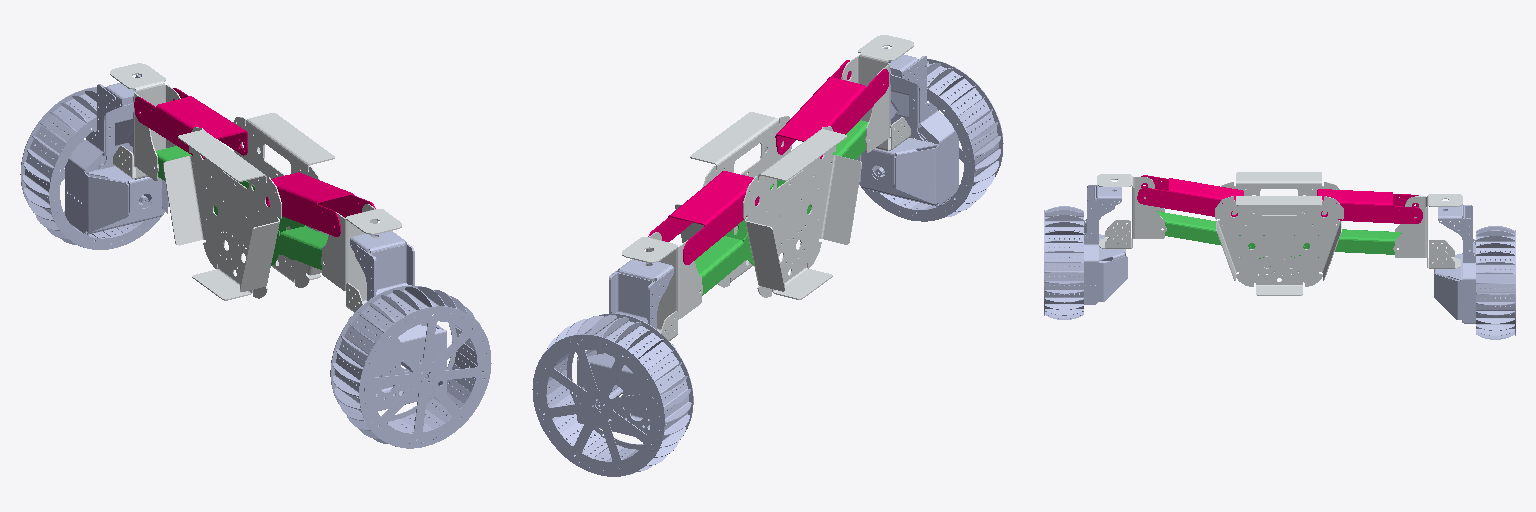
The robot description file, URDF, robot "REV":
<?xml version="1.0" encoding="utf-8"?>
<!-- This URDF was automatically created by SolidWorks to URDF Exporter! Originally created by [author] ([email redacted]) 
     Commit Version: 1.6.0-4-g7f85cfe  Build Version: 1.6.7995.38578
     For more information, please see http://wiki.ros.org/sw_urdf_exporter -->

<robot name="REV">
  <link
    name="base_link">
    <inertial>
      <origin
        xyz="7.14706072102445E-16 -1.13450915328883E-15 0.133292991245626"
        rpy="0 0 0" />
      <mass
        value="1.16420090238786" />
      <inertia
        ixx="0.0164887637751647"
        ixy="-1.90289701316722E-18"
        ixz="-2.67526886060798E-17"
        iyy="0.00758057045639267"
        iyz="-3.44375803085017E-18"
        izz="0.00955960807272672" />
    </inertial>
    <visual>
      <origin
        xyz="0 0 0"
        rpy="0 0 0" />
      <geometry>
        <mesh
          filename="package://rover_description/meshes/base_link.STL" />
      </geometry>
      <material
        name="">
        <color
          rgba="0.898039215686275 0.917647058823529 0.929411764705882 1" />
      </material>
    </visual>
    <collision>
      <origin
        xyz="0 0 0"
        rpy="0 0 0" />
      <geometry>
        <mesh
          filename="package://rover_description/meshes/base_link.STL" />
      </geometry>
    </collision>
  </link>
  <link
    name="right_upper_arm_link">
    <inertial>
      <origin
        xyz="8.67361737988404E-16 0.100934490455834 0.0100942927174472"
        rpy="0 0 0" />
      <mass
        value="0.089245113557281" />
      <inertia
        ixx="0.00046676622139141"
        ixy="3.12800290565977E-19"
        ixz="3.92122715502237E-19"
        iyy="0.000121199593509576"
        iyz="4.51709155144065E-05"
        izz="0.000529188237291866" />
    </inertial>
    <visual>
      <origin
        xyz="0 0 0"
        rpy="0 0 0" />
      <geometry>
        <mesh
          filename="package://rover_description/meshes/right_upper_arm_link.STL" />
      </geometry>
      <material
        name="">
        <color
          rgba="1 0 0.501960784313725 1" />
      </material>
    </visual>
    <collision>
      <origin
        xyz="0 0 0"
        rpy="0 0 0" />
      <geometry>
        <mesh
          filename="package://rover_description/meshes/right_upper_arm_link.STL" />
      </geometry>
    </collision>
  </link>
  <joint
    name="right_upper_suspension_joint"
    type="continuous">
    <origin
      xyz="0 0.113029999999999 0.200078600000003"
      rpy="0 0 0" />
    <parent
      link="base_link" />
    <child
      link="right_upper_arm_link" />
    <axis
      xyz="1 0 0" />
  </joint>
  <link
    name="right_elbow_link">
    <inertial>
      <origin
        xyz="2.84494650060196E-16 0.0305089500241993 -0.0605771133875825"
        rpy="0 0 0" />
      <mass
        value="0.276177502867985" />
      <inertia
        ixx="0.00138370097439145"
        ixy="4.10713697130028E-18"
        ixz="1.39962720089084E-18"
        iyy="0.00118184162619849"
        iyz="1.67240900157391E-05"
        izz="0.000604637115743068" />
    </inertial>
    <visual>
      <origin
        xyz="0 0 0"
        rpy="0 0 0" />
      <geometry>
        <mesh
          filename="package://rover_description/meshes/right_elbow_link.STL" />
      </geometry>
      <material
        name="">
        <color
          rgba="0.898039215686275 0.917647058823529 0.929411764705882 1" />
      </material>
    </visual>
    <collision>
      <origin
        xyz="0 0 0"
        rpy="0 0 0" />
      <geometry>
        <mesh
          filename="package://rover_description/meshes/right_elbow_link.STL" />
      </geometry>
    </collision>
  </link>
  <joint
    name="right_elbow_joint"
    type="continuous">
    <origin
      xyz="0 0.228276451582478 -0.0121581928309283"
      rpy="0 0 0" />
    <parent
      link="right_upper_arm_link" />
    <child
      link="right_elbow_link" />
    <axis
      xyz="1 0 0" />
    <mimic
      joint="right_upper_suspension_joint"
      multiplier="-1"
      offset="0" />
  </joint>
  <link
    name="right_steer_link">
    <inertial>
      <origin
        xyz="4.00224786206993E-05 0.0556417903494036 -0.0380442173780658"
        rpy="0 0 0" />
      <mass
        value="0.491364303359803" />
      <inertia
        ixx="0.00176190750011995"
        ixy="-2.3086902910516E-08"
        ixz="5.99035056930559E-07"
        iyy="0.0021935871105742"
        iyz="0.000325354991125423"
        izz="0.00127549915007256" />
    </inertial>
    <visual>
      <origin
        xyz="0 0 0"
        rpy="0 0 0" />
      <geometry>
        <mesh
          filename="package://rover_description/meshes/right_steer_link.STL" />
      </geometry>
      <material
        name="">
        <color
          rgba="0.792156862745098 0.819607843137255 0.933333333333333 1" />
      </material>
    </visual>
    <collision>
      <origin
        xyz="0 0 0"
        rpy="0 0 0" />
      <geometry>
        <mesh
          filename="package://rover_description/meshes/right_steer_link.STL" />
      </geometry>
    </collision>
  </link>
  <joint
    name="right_steer_joint"
    type="continuous">
    <origin
      xyz="0 0.0763523999115025 -0.142620994996874"
      rpy="0 0 0" />
    <parent
      link="right_elbow_link" />
    <child
      link="right_steer_link" />
    <axis
      xyz="0 0 -1" />
  </joint>
  <link
    name="right_drive_link">
    <inertial>
      <origin
        xyz="-4.64947787340297E-07 -0.0485815654607988 -4.94993169632418E-05"
        rpy="0 0 0" />
      <mass
        value="0.387386297168039" />
      <inertia
        ixx="0.000796364048811902"
        ixy="-1.99673396528676E-18"
        ixz="-3.87517573368842E-20"
        iyy="0.000989327464865147"
        iyz="-1.94405743453837E-19"
        izz="0.000796364048811916" />
    </inertial>
    <visual>
      <origin
        xyz="0 0 0"
        rpy="0 0 0" />
      <geometry>
        <mesh
          filename="package://rover_description/meshes/right_drive_link.STL" />
      </geometry>
      <material
        name="">
        <color
          rgba="0.792156862745098 0.819607843137255 0.933333333333333 1" />
      </material>
    </visual>
    <collision>
      <origin
        xyz="0 0 0"
        rpy="0 0 0" />
      <geometry>
        <mesh
          filename="package://rover_description/meshes/right_drive_link.STL" />
      </geometry>
    </collision>
  </link>
  <joint
    name="right_drive_joint"
    type="continuous">
    <origin
      xyz="0 0.1732788005332 -0.0550671980221146"
      rpy="0 0 0" />
    <parent
      link="right_steer_link" />
    <child
      link="right_drive_link" />
    <axis
      xyz="0 -1 0" />
  </joint>
  <link
    name="right_lower_arm_link">
    <inertial>
      <origin
        xyz="5.82867087928207E-16 0.0916466964707608 -0.00210508223009852"
        rpy="0 0 0" />
      <mass
        value="0.0901506877798632" />
      <inertia
        ixx="0.000709947389465217"
        ixy="-1.8090258729004E-19"
        ixz="1.29265966493677E-19"
        iyy="8.29725439825146E-05"
        iyz="-1.14668119266734E-05"
        izz="0.000732993154194516" />
    </inertial>
    <visual>
      <origin
        xyz="0 0 0"
        rpy="0 0 0" />
      <geometry>
        <mesh
          filename="package://rover_description/meshes/right_lower_arm_link.STL" />
      </geometry>
      <material
        name="">
        <color
          rgba="0.341176470588235 0.83921568627451 0.411764705882353 1" />
      </material>
    </visual>
    <collision>
      <origin
        xyz="0 0 0"
        rpy="0 0 0" />
      <geometry>
        <mesh
          filename="package://rover_description/meshes/right_lower_arm_link.STL" />
      </geometry>
    </collision>
  </link>
  <joint
    name="right_lower_suspension_joint"
    type="continuous">
    <origin
      xyz="0 0.0685799999999988 0.111178600000003"
      rpy="0 0 0" />
    <parent
      link="base_link" />
    <child
      link="right_lower_arm_link" />
    <axis
      xyz="-1 0 0" />
    <mimic
      joint="right_upper_suspension_joint"
      multiplier="-1"
      offset="0" />
  </joint>
  <link
    name="left_upper_arm_link">
    <inertial>
      <origin
        xyz="1.19348975147204E-15 -0.09566388473219 0.0337355490097695"
        rpy="0 0 0" />
      <mass
        value="0.089245113557281" />
      <inertia
        ixx="0.000466766221391411"
        ixy="7.2798747442127E-19"
        ixz="5.82302453068405E-19"
        iyy="0.000123323201524777"
        iyz="5.38730902348708E-05"
        izz="0.000527064629276666" />
    </inertial>
    <visual>
      <origin
        xyz="0 0 0"
        rpy="0 0 0" />
      <geometry>
        <mesh
          filename="package://rover_description/meshes/left_upper_arm_link.STL" />
      </geometry>
      <material
        name="">
        <color
          rgba="1 0 0.501960784313725 1" />
      </material>
    </visual>
    <collision>
      <origin
        xyz="0 0 0"
        rpy="0 0 0" />
      <geometry>
        <mesh
          filename="package://rover_description/meshes/left_upper_arm_link.STL" />
      </geometry>
    </collision>
  </link>
  <joint
    name="left_upper_suspension_joint"
    type="continuous">
    <origin
      xyz="0 -0.113030000000001 0.200078600000003"
      rpy="0 0 0" />
    <parent
      link="base_link" />
    <child
      link="left_upper_arm_link" />
    <axis
      xyz="1 0 0" />
  </joint>
  <link
    name="left_elbow_link">
    <inertial>
      <origin
        xyz="1.38777878078145E-16 -0.0305089494916406 -0.0605771233835763"
        rpy="0 0 0" />
      <mass
        value="0.276177502867984" />
      <inertia
        ixx="0.00138370097439145"
        ixy="1.62464807955631E-18"
        ixz="-6.28782801486317E-18"
        iyy="0.00118184162619849"
        iyz="-1.67240900157383E-05"
        izz="0.000604637115743068" />
    </inertial>
    <visual>
      <origin
        xyz="0 0 0"
        rpy="0 0 0" />
      <geometry>
        <mesh
          filename="package://rover_description/meshes/left_elbow_link.STL" />
      </geometry>
      <material
        name="">
        <color
          rgba="0.898039215686275 0.917647058823529 0.929411764705882 1" />
      </material>
    </visual>
    <collision>
      <origin
        xyz="0 0 0"
        rpy="0 0 0" />
      <geometry>
        <mesh
          filename="package://rover_description/meshes/left_elbow_link.STL" />
      </geometry>
    </collision>
  </link>
  <joint
    name="left_elbow_joint"
    type="continuous">
    <origin
      xyz="0 -0.224651005898425 0.0423070389985593"
      rpy="0 0 0" />
    <parent
      link="left_upper_arm_link" />
    <child
      link="left_elbow_link" />
    <axis
      xyz="1 0 0" />
    <mimic
      joint="left_upper_suspension_joint"
      multiplier="-1"
      offset="0" />
  </joint>
  <link
    name="left_steer_link">
    <inertial>
      <origin
        xyz="-3.78479948679109E-05 -0.050860797138137 -0.0340889001493224"
        rpy="0 0 0" />
      <mass
        value="0.405984022646422" />
      <inertia
        ixx="0.00172438585657842"
        ixy="-2.30866912290617E-08"
        ixz="-6.62312988707159E-07"
        iyy="0.00196766144893258"
        iyz="-0.000325354993938091"
        izz="0.00102637403801297" />
    </inertial>
    <visual>
      <origin
        xyz="0 0 0"
        rpy="0 0 0" />
      <geometry>
        <mesh
          filename="package://rover_description/meshes/left_steer_link.STL" />
      </geometry>
      <material
        name="">
        <color
          rgba="0.792156862745098 0.819607843137255 0.933333333333333 1" />
      </material>
    </visual>
    <collision>
      <origin
        xyz="0 0 0"
        rpy="0 0 0" />
      <geometry>
        <mesh
          filename="package://rover_description/meshes/left_steer_link.STL" />
      </geometry>
    </collision>
  </link>
  <joint
    name="left_steer_joint"
    type="continuous">
    <origin
      xyz="0 -0.0763524002710016 -0.142620999999998"
      rpy="0 0 0" />
    <parent
      link="left_elbow_link" />
    <child
      link="left_steer_link" />
    <axis
      xyz="0 0 -1" />
  </joint>
  <link
    name="left_drive_link">
    <inertial>
      <origin
        xyz="2.17669443393353E-07 0.0485815658150146 -4.9843936285314E-05"
        rpy="0 0 0" />
      <mass
        value="0.387386297168039" />
      <inertia
        ixx="0.000796364048811911"
        ixy="6.39761624733332E-18"
        ixz="-4.03881105815611E-18"
        iyy="0.000989327464865172"
        iyz="3.10095615483234E-18"
        izz="0.000796364048811931" />
    </inertial>
    <visual>
      <origin
        xyz="0 0 0"
        rpy="0 0 0" />
      <geometry>
        <mesh
          filename="package://rover_description/meshes/left_drive_link.STL" />
      </geometry>
      <material
        name="">
        <color
          rgba="0.792156862745098 0.819607843137255 0.933333333333333 1" />
      </material>
    </visual>
    <collision>
      <origin
        xyz="0 0 0"
        rpy="0 0 0" />
      <geometry>
        <mesh
          filename="package://rover_description/meshes/left_drive_link.STL" />
      </geometry>
    </collision>
  </link>
  <joint
    name="left_drive_joint"
    type="continuous">
    <origin
      xyz="0 -0.173278799729241 -0.055067200000181"
      rpy="0 0 0" />
    <parent
      link="left_steer_link" />
    <child
      link="left_drive_link" />
    <axis
      xyz="0 1 0" />
  </joint>
  <link
    name="left_lower_arm_link">
    <inertial>
      <origin
        xyz="6.24500451351651E-16 -0.0895330380591021 0.019682058863483"
        rpy="0 0 0" />
      <mass
        value="0.0901506877798632" />
      <inertia
        ixx="0.000709947389465217"
        ixy="1.14740856478234E-18"
        ixz="-8.52223760834534E-20"
        iyy="0.000124788606463752"
        iyz="0.00015988810820397"
        izz="0.00069117709171328" />
    </inertial>
    <visual>
      <origin
        xyz="0 0 0"
        rpy="0 0 0" />
      <geometry>
        <mesh
          filename="package://rover_description/meshes/left_lower_arm_link.STL" />
      </geometry>
      <material
        name="">
        <color
          rgba="0.341176470588235 0.83921568627451 0.411764705882353 1" />
      </material>
    </visual>
    <collision>
      <origin
        xyz="0 0 0"
        rpy="0 0 0" />
      <geometry>
        <mesh
          filename="package://rover_description/meshes/left_lower_arm_link.STL" />
      </geometry>
    </collision>
  </link>
  <joint
    name="left_lower_suspension_joint"
    type="continuous">
    <origin
      xyz="0 -0.06858 0.11118"
      rpy="0 0 0" />
    <parent
      link="base_link" />
    <child
      link="left_lower_arm_link" />
    <axis
      xyz="1 0 0" />
    <mimic
      joint="left_upper_suspension_joint"
      multiplier="1"
      offset="0" />
  </joint>
</robot>

--- Facts derived from the render (not from the file) ---
3 views of the same robot in one strip: view 1: azimuth 30°, elevation 25°; view 2: azimuth 150°, elevation 25°; view 3: azimuth 270°, elevation 25° (orthographic).
Robot: REV — 11 links, 10 joints (10 continuous); root link base_link; default pose: all joints at 0.
Visible links, largest first — view 1: base_link, left_drive_link, right_steer_link, right_drive_link, left_steer_link, left_upper_arm_link, right_elbow_link, right_upper_arm_link, left_elbow_link, left_lower_arm_link, right_lower_arm_link; view 2: right_drive_link, base_link, left_steer_link, left_drive_link, right_steer_link, right_upper_arm_link, left_upper_arm_link, left_elbow_link, right_elbow_link, right_lower_arm_link, left_lower_arm_link; view 3: base_link, left_drive_link, right_drive_link, left_steer_link, right_steer_link, right_elbow_link, left_elbow_link, left_upper_arm_link, right_upper_arm_link, right_lower_arm_link, left_lower_arm_link.
Link boxes in pixels (x1,y1,x2,y2): base_link: (163, 113, 344, 300); left_drive_link: (330, 285, 491, 448); right_steer_link: (65, 75, 167, 234); right_drive_link: (20, 87, 168, 249); left_steer_link: (348, 231, 446, 410); left_upper_arm_link: (266, 172, 375, 236); right_elbow_link: (110, 63, 180, 180); right_upper_arm_link: (134, 88, 247, 158); left_elbow_link: (321, 204, 401, 312); left_lower_arm_link: (271, 216, 327, 269); right_lower_arm_link: (156, 146, 254, 214); right_drive_link: (532, 314, 693, 476); base_link: (675, 112, 861, 299); left_steer_link: (856, 47, 958, 206); left_drive_link: (861, 59, 1003, 221); right_steer_link: (577, 259, 675, 436); right_upper_arm_link: (648, 171, 758, 264); left_upper_arm_link: (775, 60, 888, 158); left_elbow_link: (841, 35, 913, 152); right_elbow_link: (622, 232, 702, 340); right_lower_arm_link: (695, 218, 753, 295); left_lower_arm_link: (770, 120, 867, 213); base_link: (1215, 172, 1343, 295); left_drive_link: (1044, 206, 1108, 319); right_drive_link: (1456, 226, 1515, 339); left_steer_link: (1069, 185, 1127, 304); right_steer_link: (1434, 205, 1490, 323); right_elbow_link: (1393, 194, 1462, 268); left_elbow_link: (1097, 174, 1166, 248); left_upper_arm_link: (1137, 175, 1243, 216); right_upper_arm_link: (1317, 189, 1422, 223); right_lower_arm_link: (1291, 224, 1401, 257); left_lower_arm_link: (1157, 211, 1264, 258).
Bounding box of the posed robot: 0.2865 × 1.18 × 0.4272 m (x, y, z).
11 mesh visuals loaded from 11 distinct referenced files (11 binary STL).